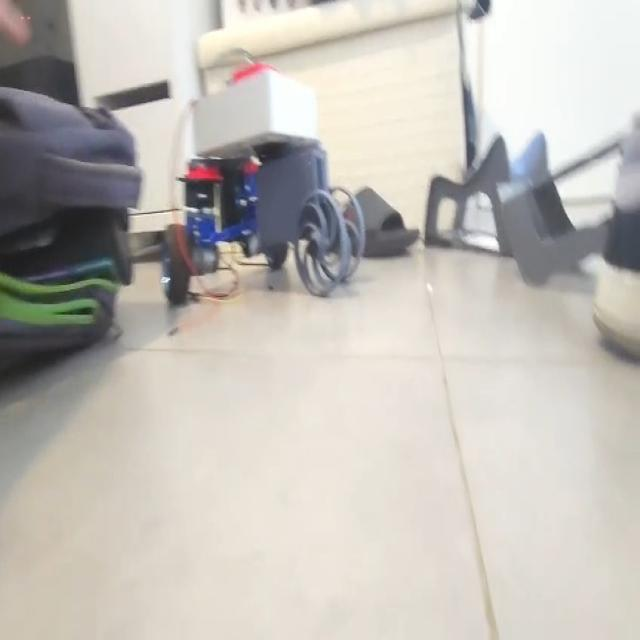Robot: (161, 61, 366, 306)
